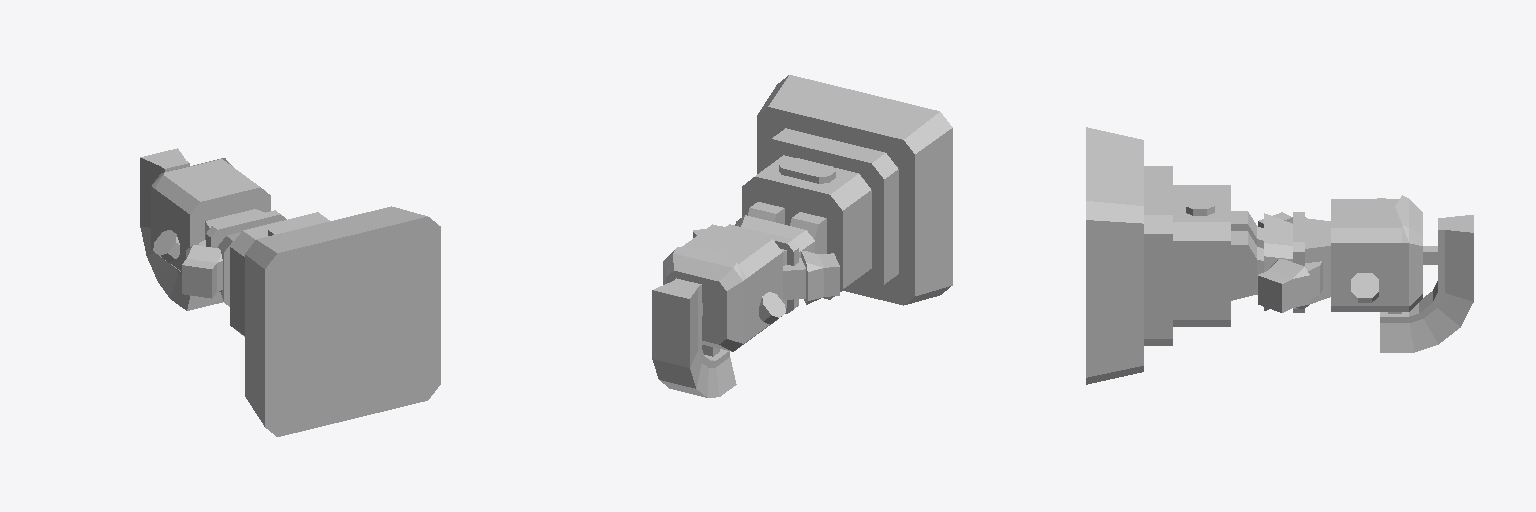
The model's file is statue.obj.
3 renders of one model, left to right at view 1: azimuth 30°, elevation 25°; view 2: azimuth 150°, elevation 25°; view 3: azimuth 270°, elevation 25°, orthographic.
Visible parts, largest first — view 1: statue; view 2: statue; view 3: statue.
Boxes of the visible parts, x1=… form: statue: x1=140, y1=148, x2=440, y2=436; statue: x1=652, y1=75, x2=952, y2=397; statue: x1=1086, y1=127, x2=1473, y2=384.
Bounding box in the file's own units: 0.7 × 0.7 × 1.34.